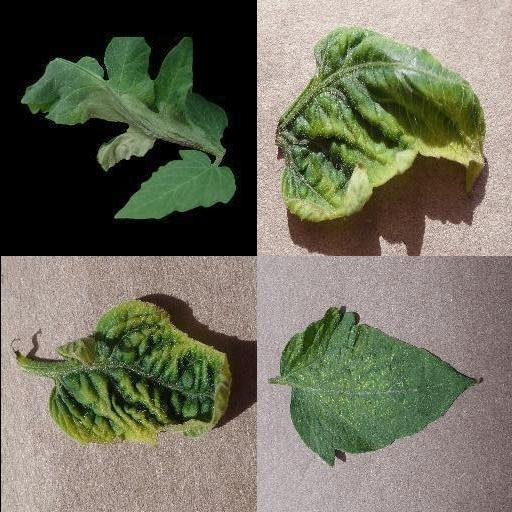Healthy: (113, 148, 235, 220)
Late Blight: (20, 36, 224, 170)
Spider Mites: (279, 307, 481, 465)
Yellow Leaf Curl Virus: (271, 23, 487, 221), (48, 300, 232, 450)
